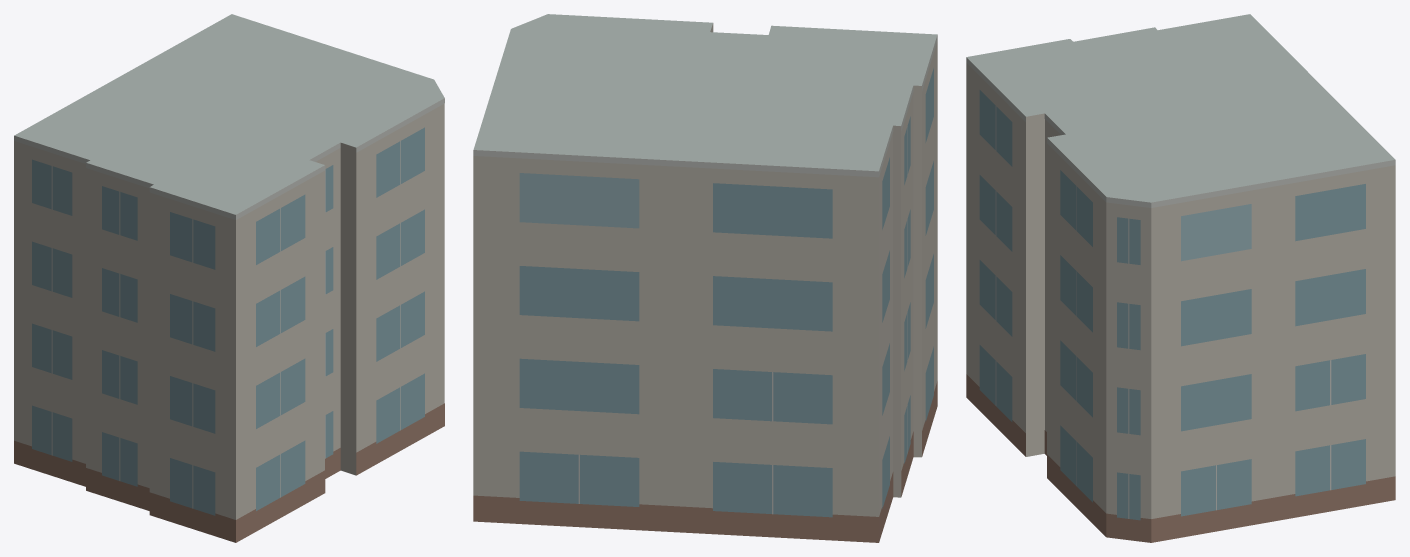
File: survey-upis-32740477.glb
The picture shows the model from 3 angles, left to right: view 1: azimuth 30°, elevation 25°; view 2: azimuth 150°, elevation 25°; view 3: azimuth 270°, elevation 25°; orthographic projection. The views are drawn at different scales.
Parts seen in each view (by area): view 1: survey-upis-32740477.tmp; view 2: survey-upis-32740477.tmp; view 3: survey-upis-32740477.tmp.
Part boxes in pixels (<box>): survey-upis-32740477.tmp: <box>14,14,444,542</box>; survey-upis-32740477.tmp: <box>473,14,937,542</box>; survey-upis-32740477.tmp: <box>966,14,1395,542</box>.
Size of the model in its own units: 18.02 by 15.15 by 17.33.
